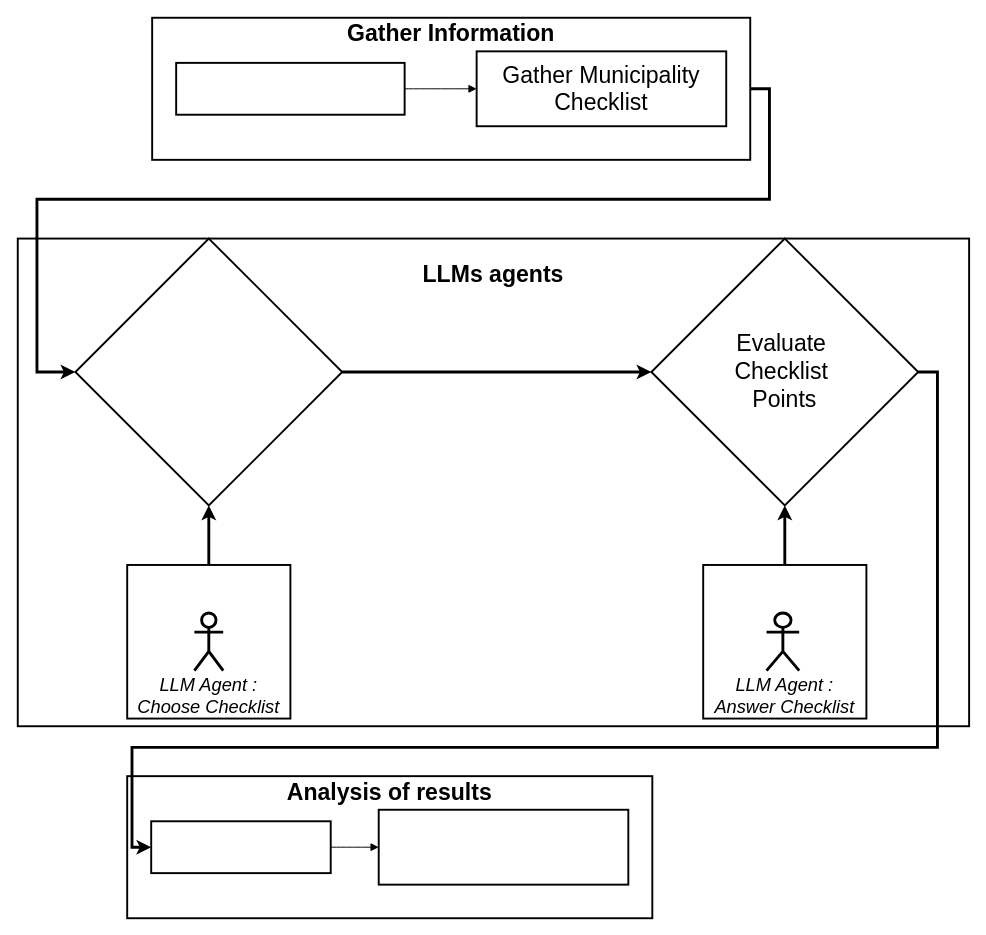
The diagram is 986 pixels wide and 935 high, and some of its shapes have lost their labels. Here are the shapes that lost their labels. From the top down, the centre of each, then its label:
the point at 290,88: Download the Determine
the point at 208,371: Choose Right Checklist for the Act
the point at 240,847: Gather All Results
the point at 503,846: Compare LLM Results with Human Evaluation
